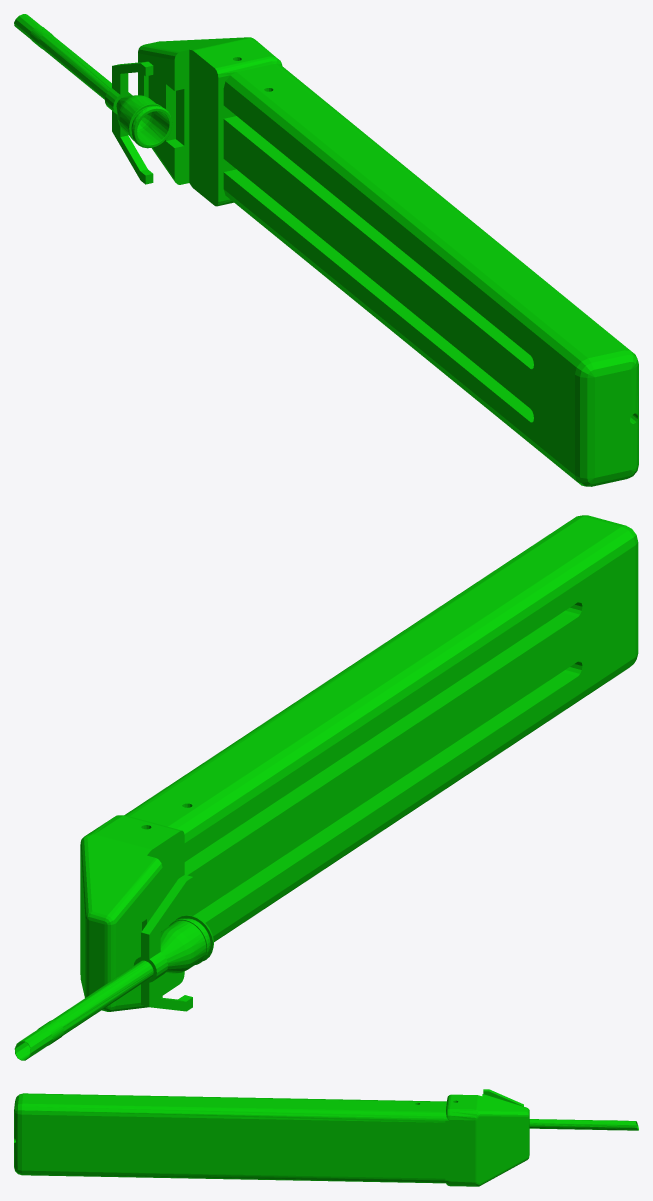
Rendered from dvkr_robot_L2_visual_PSM2_vis_2.dae.
3 views of the same model, one above another, from view 1: azimuth 30°, elevation 25°; view 2: azimuth 150°, elevation 25°; view 3: azimuth 270°, elevation 25° (orthographic). The views are drawn at different scales.
Visible parts, largest first — view 1: Node_0000023514CDA040; view 2: Node_0000023514CDA040; view 3: Node_0000023514CDA040.
Boxes of the visible parts, x1,y1,x2,y2 form: Node_0000023514CDA040: (14,14,638,486); Node_0000023514CDA040: (14,515,638,1060); Node_0000023514CDA040: (14,1089,638,1186).
Size of the model in its own units: 0.0773 by 0.082 by 0.6073.
